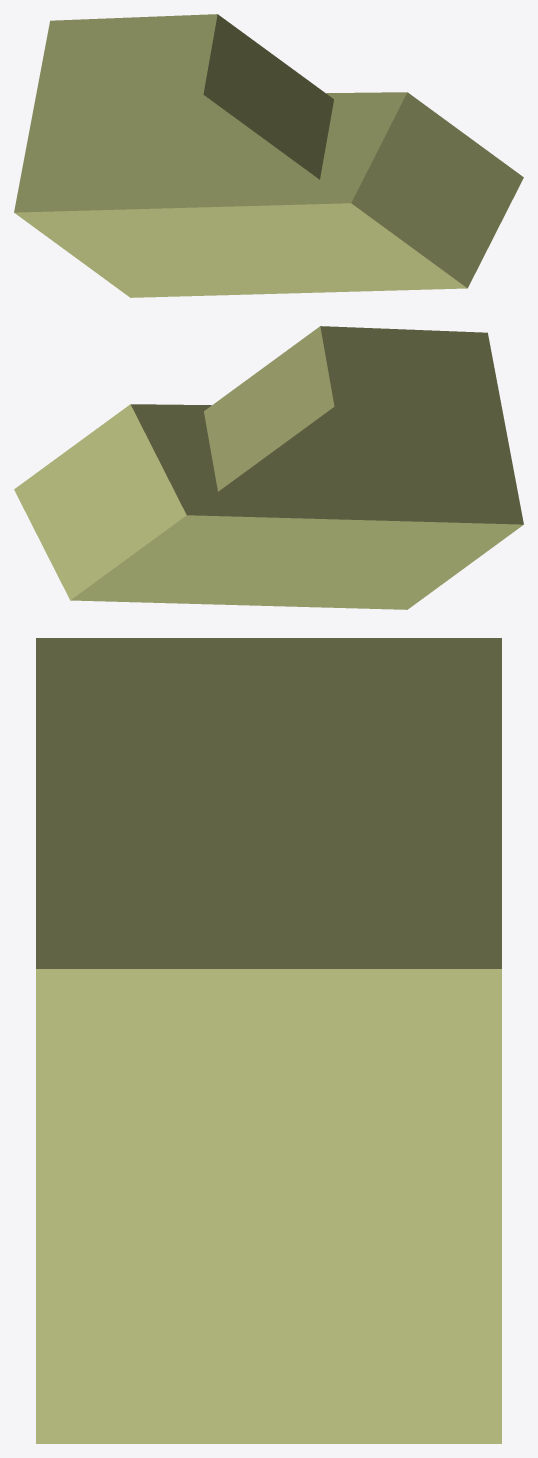
3 renders of one model, top to bottom at view 1: azimuth 30°, elevation 25°; view 2: azimuth 150°, elevation 25°; view 3: azimuth 270°, elevation 25°, orthographic. The views are drawn at different scales.
Parts seen in each view (by area): view 1: 0_1_0_0_1_3_2_2_2_2; view 2: 0_1_0_0_1_3_2_2_2_2; view 3: 0_1_0_0_1_3_2_2_2_2.
Boxes of the visible parts, x1,y1,x2,y2 form: 0_1_0_0_1_3_2_2_2_2: [14, 14, 523, 297]; 0_1_0_0_1_3_2_2_2_2: [14, 326, 523, 609]; 0_1_0_0_1_3_2_2_2_2: [36, 638, 501, 1443].
Bounding box in the file's own units: 17.55 × 10.91 × 9.
